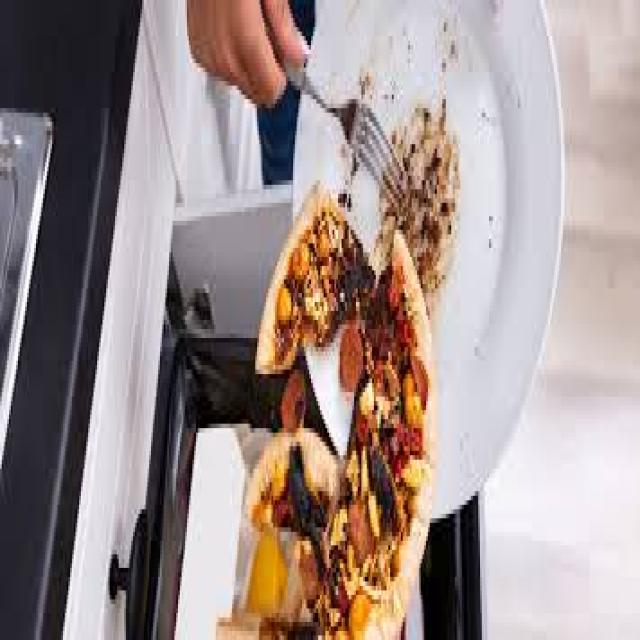Organik: (115, 0, 536, 640), (211, 182, 444, 640)
